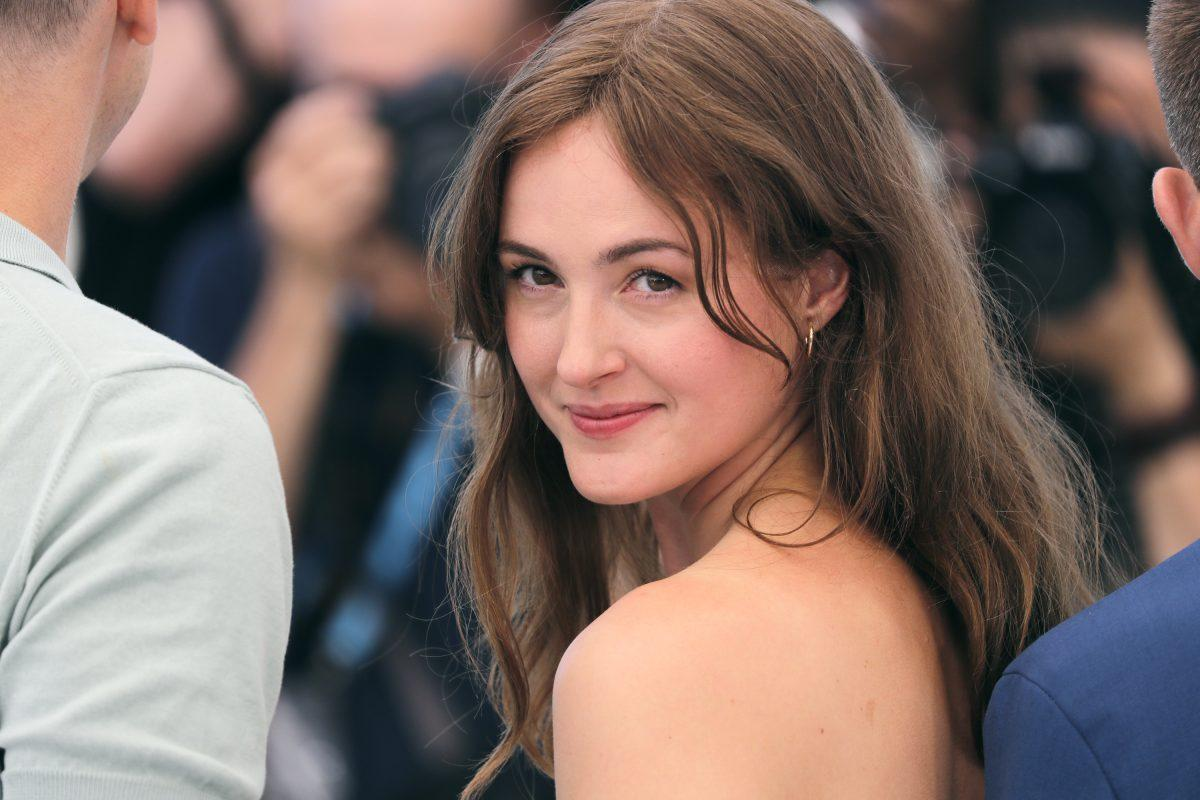Persons: (404, 0, 925, 542)
